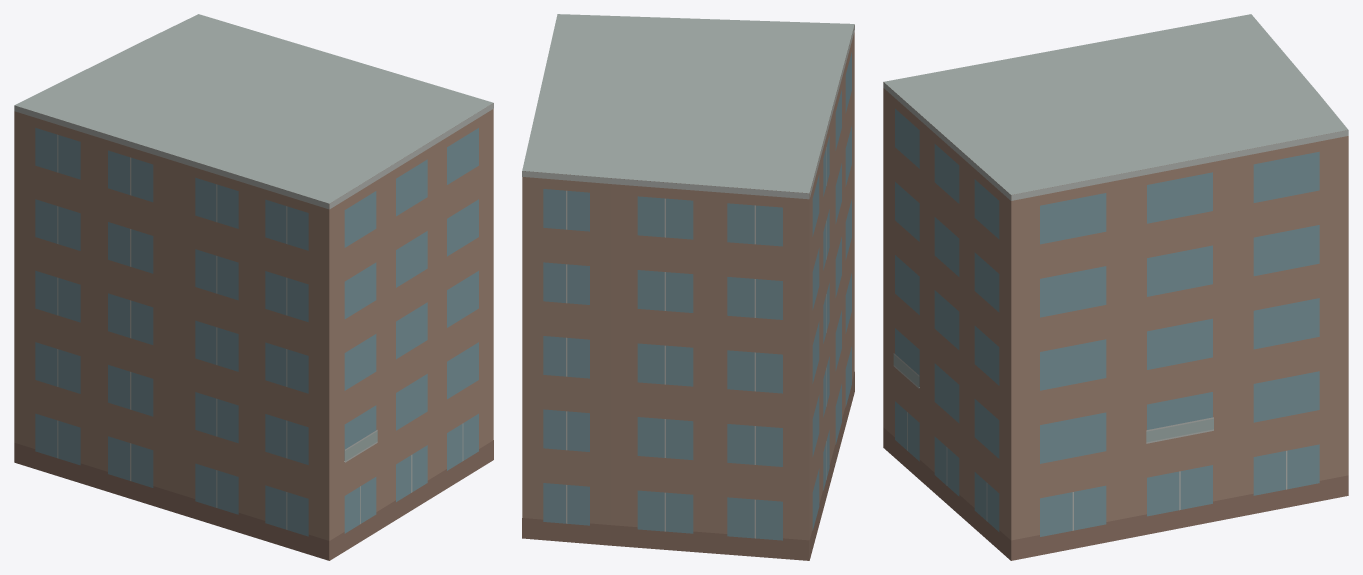
The model's file is survey-upis-32702000.glb.
3 views of the same model, side by side, from view 1: azimuth 30°, elevation 25°; view 2: azimuth 150°, elevation 25°; view 3: azimuth 270°, elevation 25° (orthographic). The views are drawn at different scales.
Visible parts, largest first — view 1: survey-upis-32702000.tmp; view 2: survey-upis-32702000.tmp; view 3: survey-upis-32702000.tmp.
Part boxes in pixels (bbox=[...]): survey-upis-32702000.tmp: bbox=[14, 14, 493, 560]; survey-upis-32702000.tmp: bbox=[522, 14, 854, 560]; survey-upis-32702000.tmp: bbox=[883, 14, 1348, 560].
Bounding box in the file's own units: 15.82 × 14.9 × 17.18.
